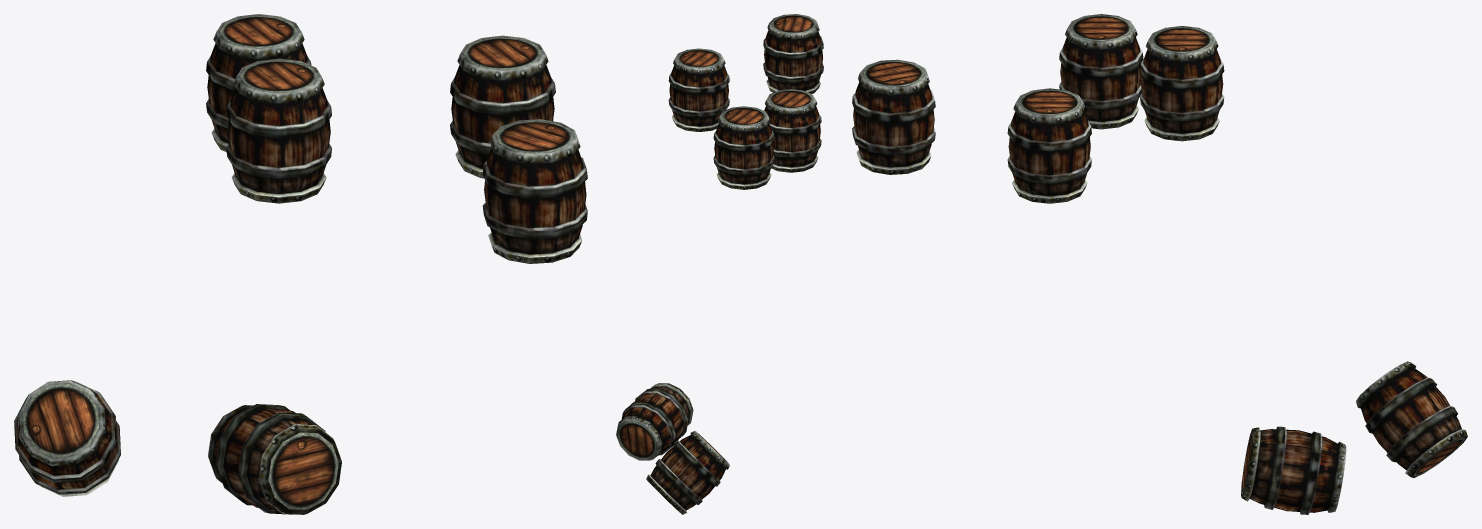
Rendered from PUSH5_BARRELS.fbx.
The picture shows the model from 3 angles, left to right: view 1: azimuth 30°, elevation 25°; view 2: azimuth 150°, elevation 25°; view 3: azimuth 270°, elevation 25°; orthographic projection. The views are drawn at different scales.
Visible parts, largest first — view 1: PUSH5_BARRELS; view 2: PUSH5_BARRELS; view 3: PUSH5_BARRELS.
Boxes of the visible parts, x1,y1,x2,y2 form: PUSH5_BARRELS: (14,14,587,514); PUSH5_BARRELS: (616,14,823,514); PUSH5_BARRELS: (852,14,1467,514).
Size of the model in its own units: 26701 by 46717 by 57507.
Materials: 2 (2 with a texture image).
